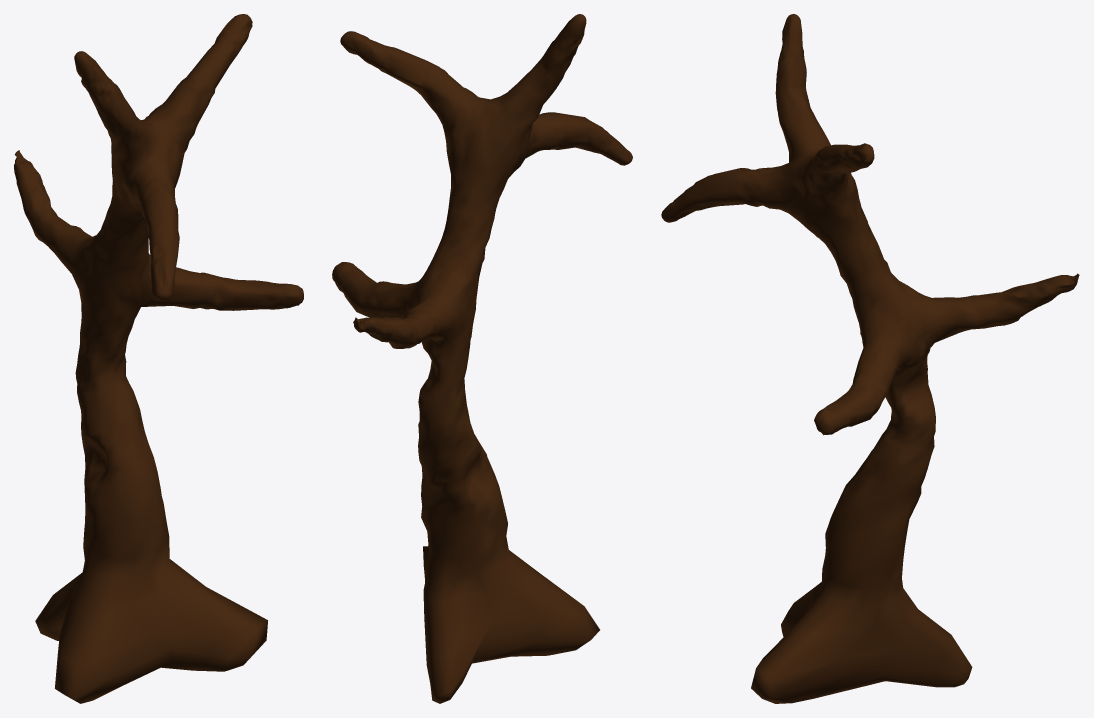
File: G_LP_Tree_01a.fbx
The picture shows the model from 3 angles, left to right: view 1: azimuth 30°, elevation 25°; view 2: azimuth 150°, elevation 25°; view 3: azimuth 270°, elevation 25°; orthographic projection. The views are drawn at different scales.
Visible parts, largest first — view 1: G_LP_Tree_01a; view 2: G_LP_Tree_01a; view 3: G_LP_Tree_01a.
Part boxes in pixels (x1,y1,x2,y2): G_LP_Tree_01a: (14, 14, 303, 703); G_LP_Tree_01a: (332, 14, 632, 703); G_LP_Tree_01a: (661, 14, 1079, 703).
Size of the model in its own units: 553 by 1365 by 806.
